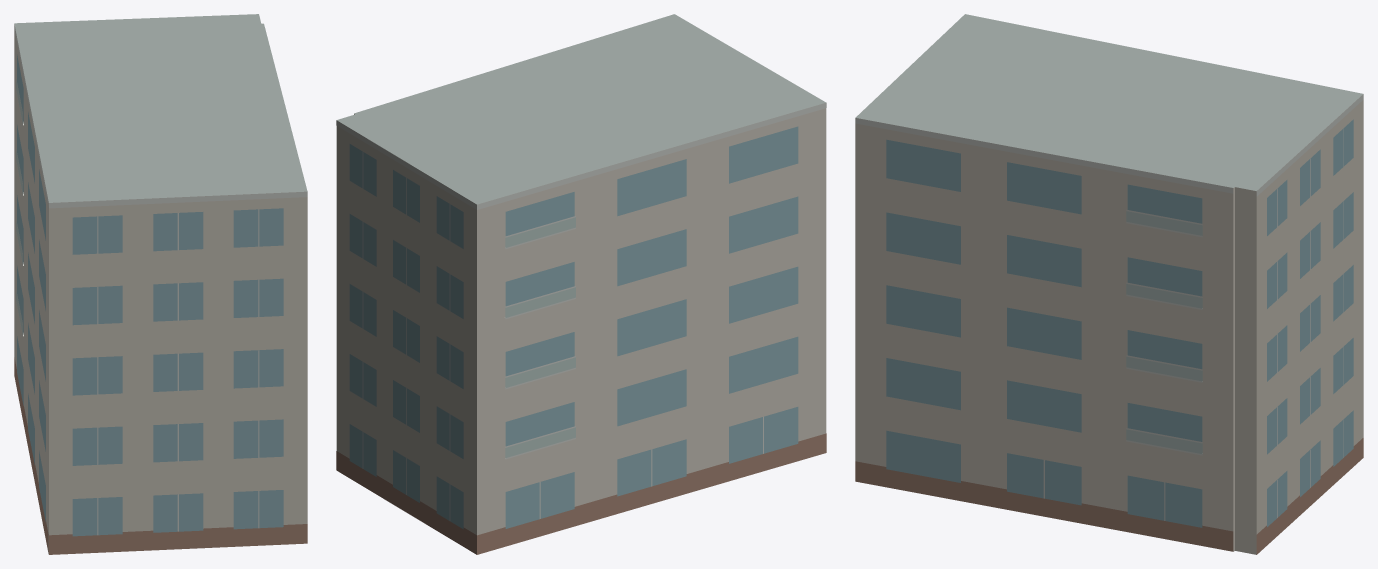
The model's file is survey-upis-32672089.glb.
3 views of the same model, side by side, from view 1: azimuth 30°, elevation 25°; view 2: azimuth 150°, elevation 25°; view 3: azimuth 270°, elevation 25° (orthographic). The views are drawn at different scales.
Visible parts, largest first — view 1: survey-upis-32672089.tmp; view 2: survey-upis-32672089.tmp; view 3: survey-upis-32672089.tmp.
Part boxes in pixels (x1=…): survey-upis-32672089.tmp: x1=14, y1=14, x2=307, y2=554; survey-upis-32672089.tmp: x1=336, y1=14, x2=826, y2=554; survey-upis-32672089.tmp: x1=855, y1=14, x2=1363, y2=554.
Size of the model in its own units: 16.38 by 15.68 by 19.87.
